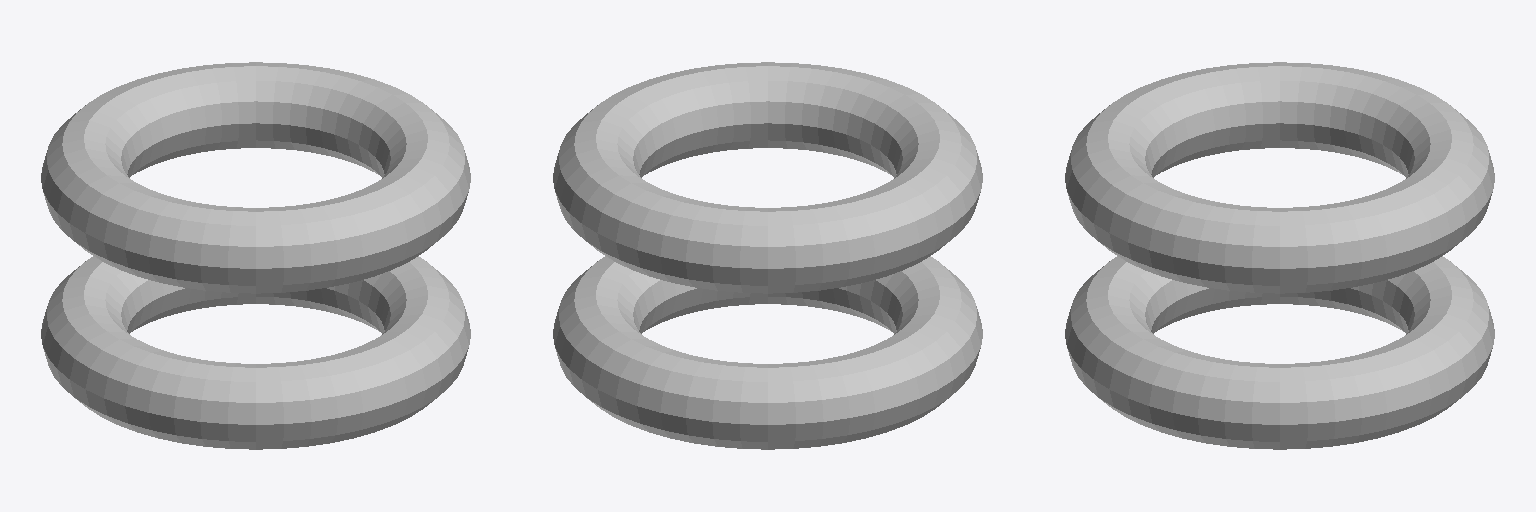
The model's file is doubleTorus.obj.
The picture shows the model from 3 angles: view 1: azimuth 30°, elevation 25°; view 2: azimuth 150°, elevation 25°; view 3: azimuth 270°, elevation 25°; orthographic projection.
Parts seen in each view (by area): view 1: Torus.001, Torus; view 2: Torus.001, Torus; view 3: Torus.001, Torus.
Boxes of the visible parts, x1,y1,x2,y2 form: Torus.001: [41, 62, 470, 293]; Torus: [41, 256, 470, 449]; Torus.001: [553, 62, 982, 293]; Torus: [553, 256, 982, 449]; Torus.001: [1065, 62, 1494, 293]; Torus: [1065, 256, 1494, 449].
Size of the model in its own units: 2.5 by 1.5 by 2.5.